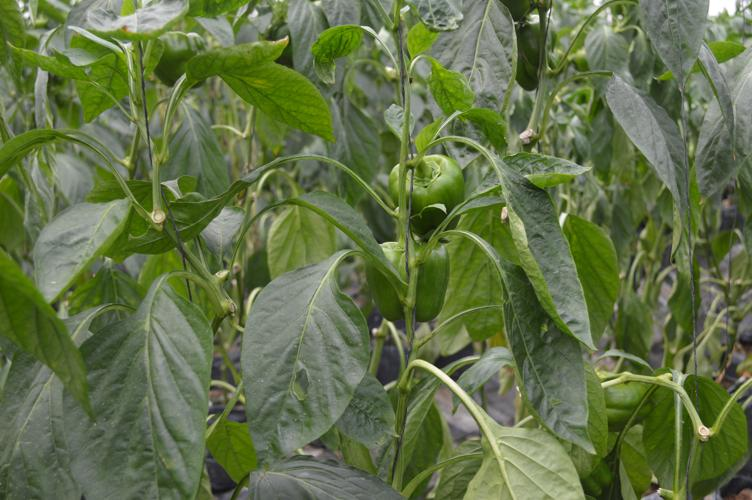BellPepper: (366, 239, 451, 320), (389, 154, 466, 226), (152, 31, 206, 86), (597, 372, 651, 424)
